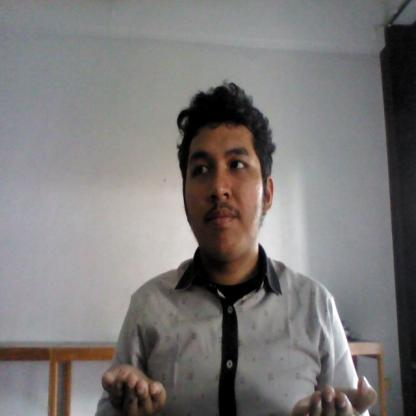Apa: (98, 361, 378, 416)
